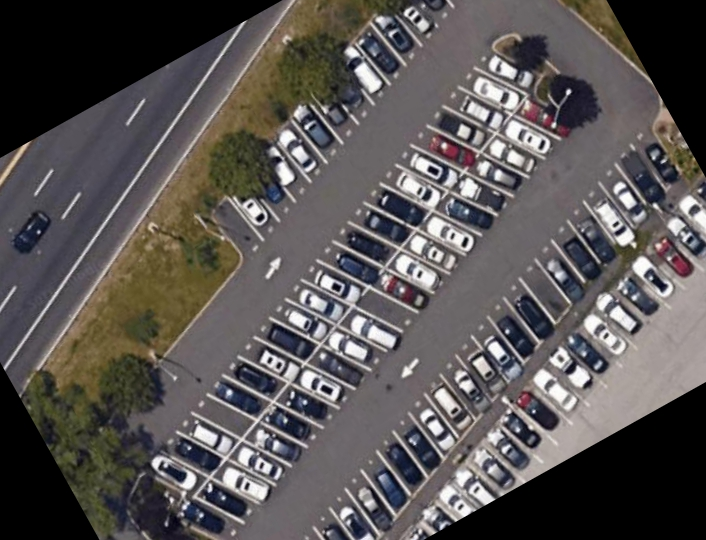parkingspot: (136, 43, 593, 540), (298, 116, 687, 540), (399, 173, 706, 540), (207, 0, 464, 267)
